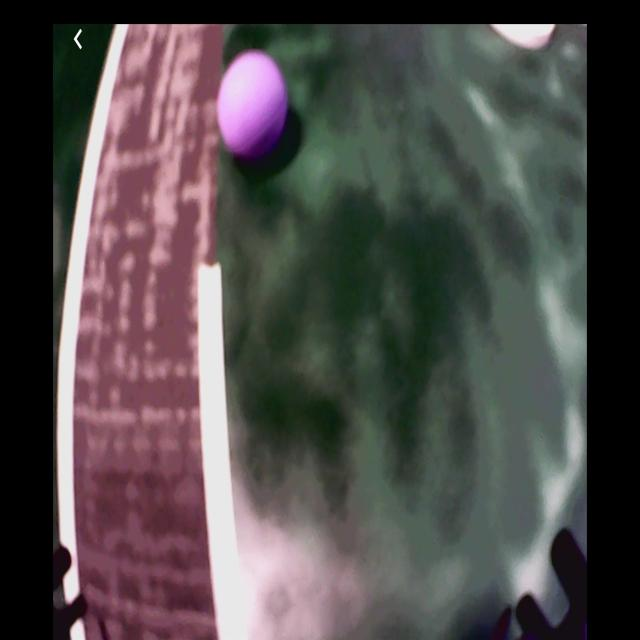ball: (217, 51, 290, 165)
